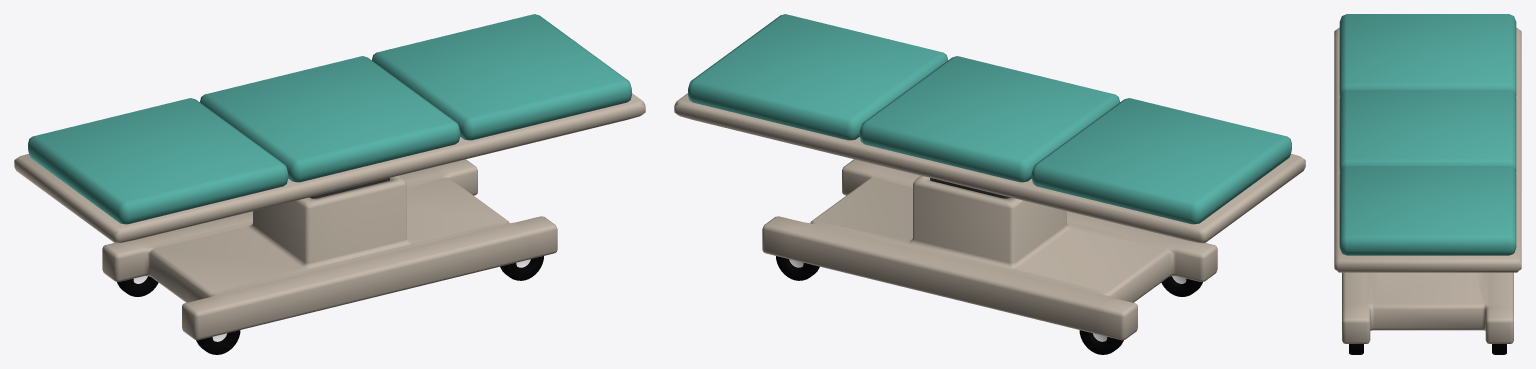
Rendered from strecher.fbx.
The picture shows the model from 3 angles, left to right: view 1: azimuth 30°, elevation 25°; view 2: azimuth 150°, elevation 25°; view 3: azimuth 270°, elevation 25°; orthographic projection. The views are drawn at different scales.
Parts seen in each view (by area): view 1: strecher; view 2: strecher; view 3: strecher.
Boxes of the visible parts, x1,y1,x2,y2 form: strecher: (14,14,645,354); strecher: (674,14,1305,354); strecher: (1334,14,1521,354).
Size of the model in its own units: 164 by 52.56 by 55.22.
1 material, 1 textured.
